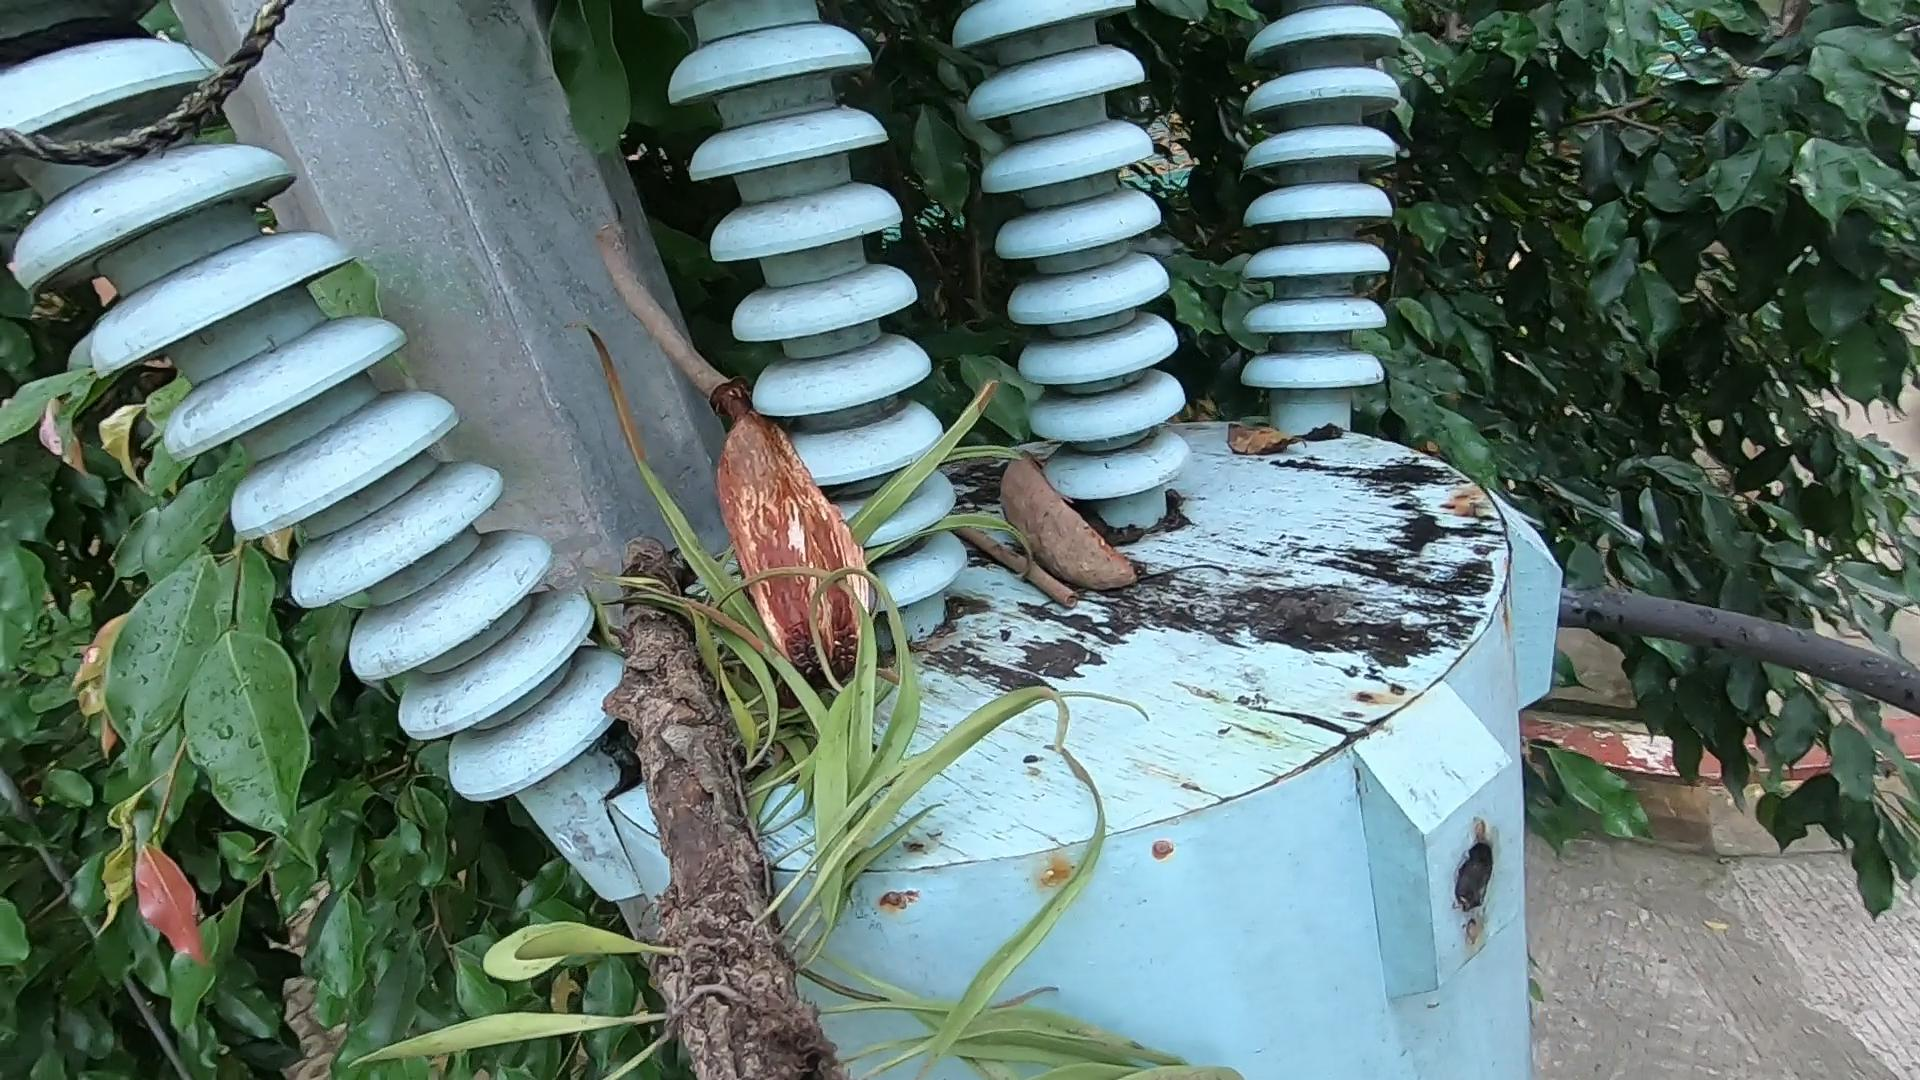branch with leaves: (585, 530, 1230, 1080)
leaf: (1218, 413, 1338, 465)
mahogany fruit: (684, 415, 889, 671), (957, 419, 1151, 615)
tree branch: (582, 204, 729, 413), (949, 498, 1097, 618)
